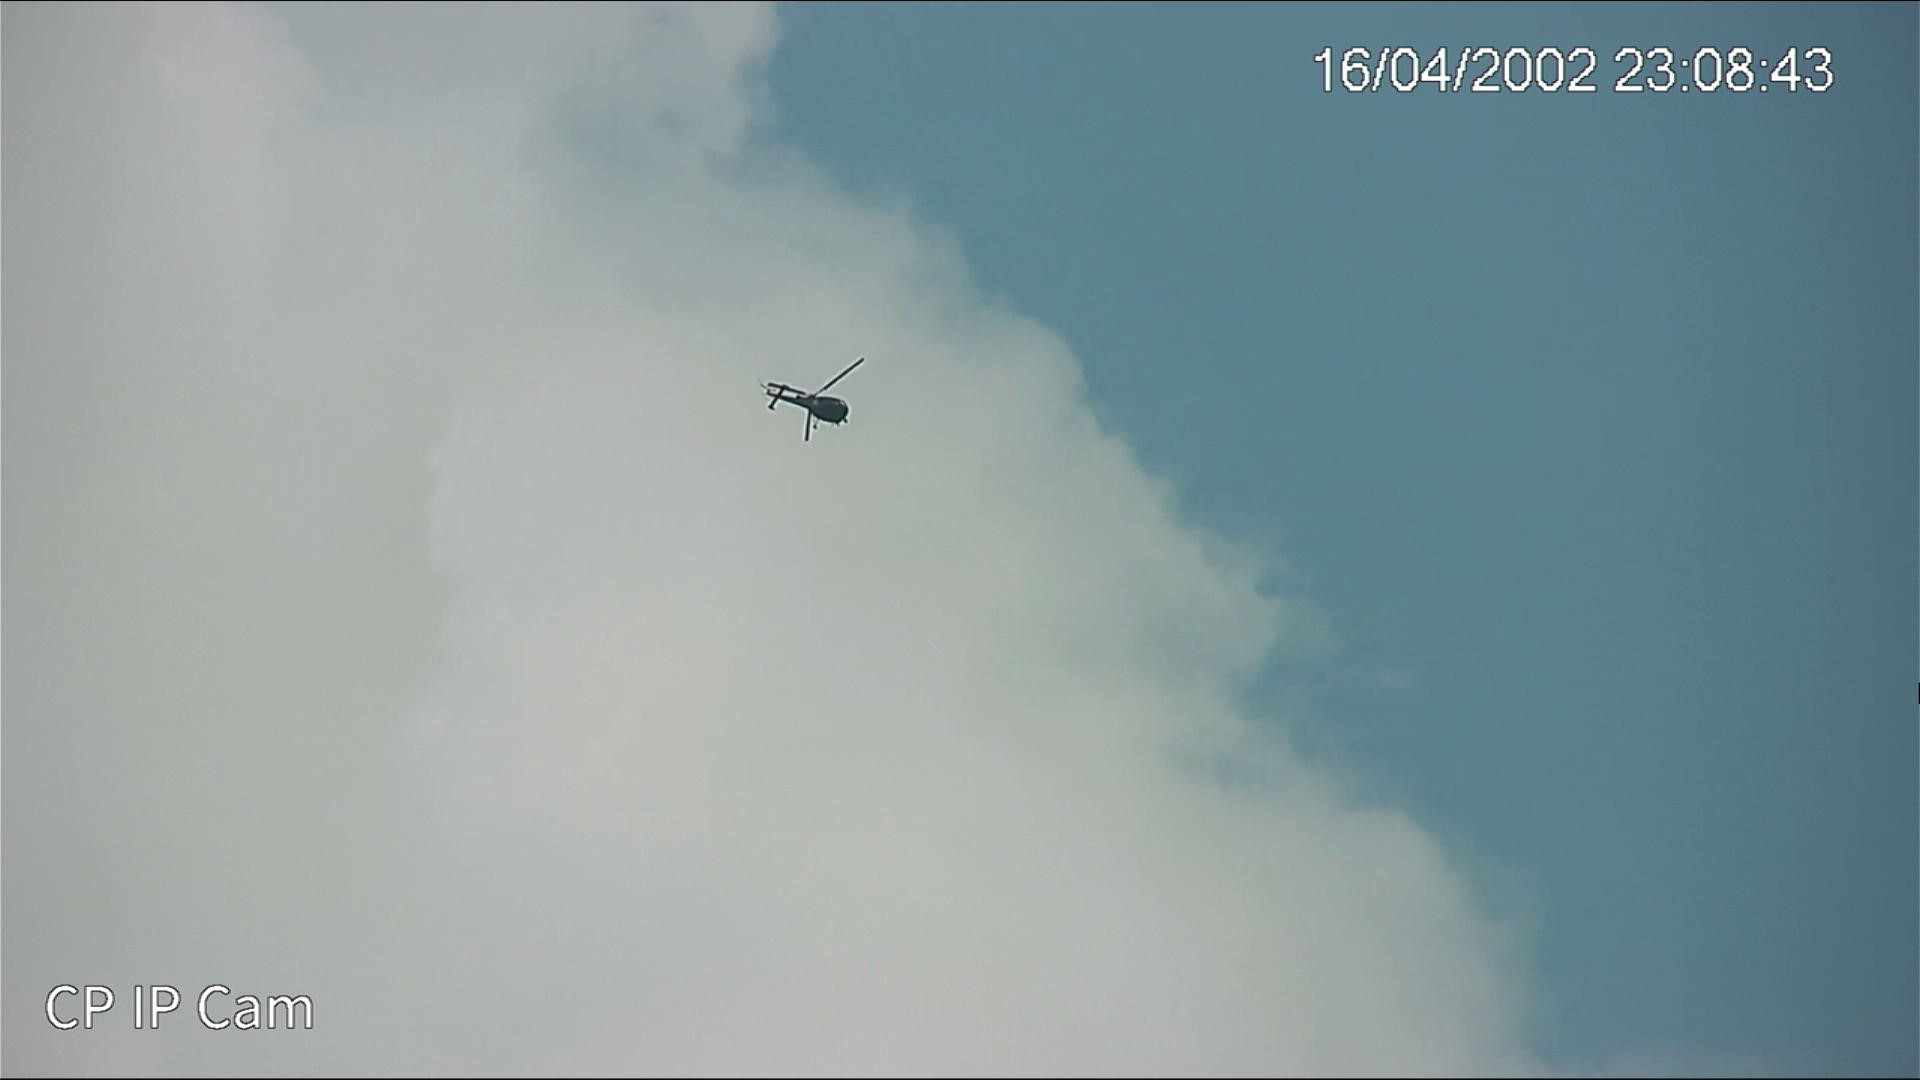SU_30: (762, 378, 858, 447)
